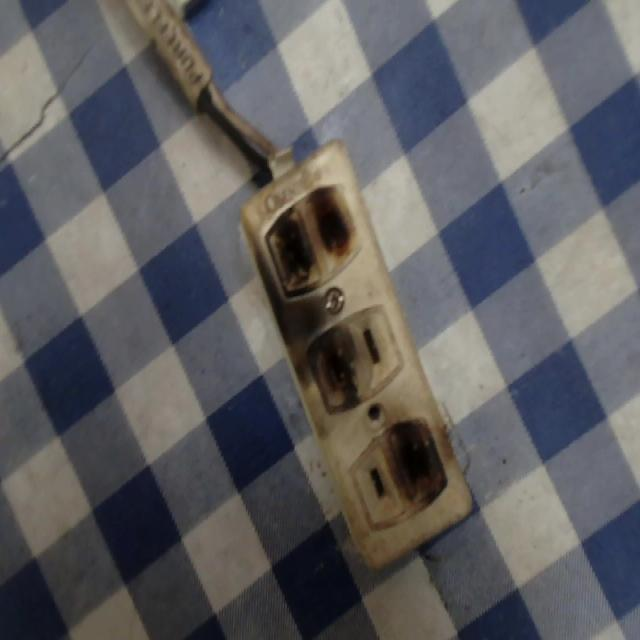-: (262, 183, 364, 292), (386, 410, 452, 514), (295, 316, 361, 417)
